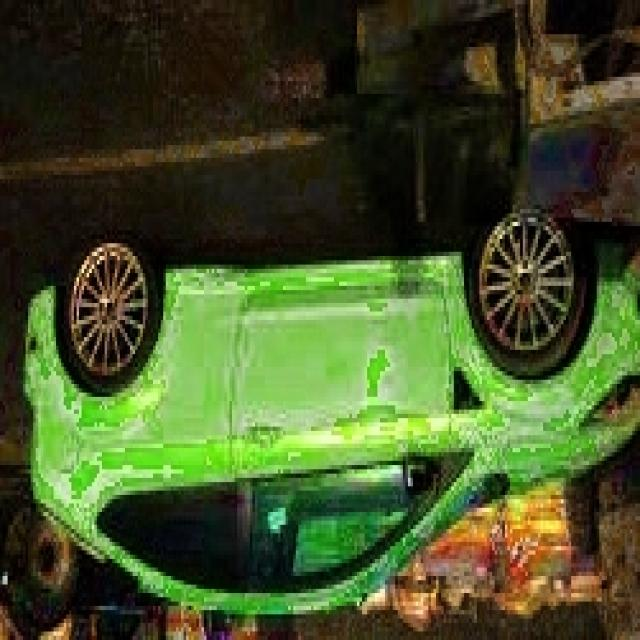green: (25, 209, 640, 614)
